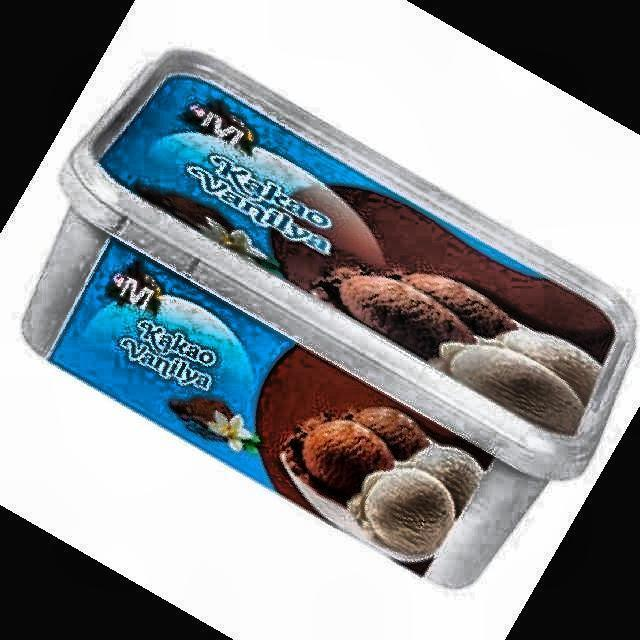plastic: (22, 50, 635, 587)
